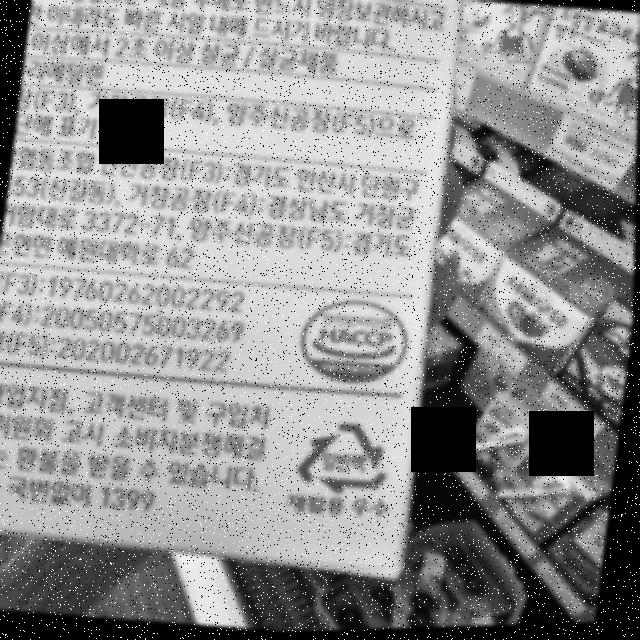NormalPack: (290, 415, 398, 505)
